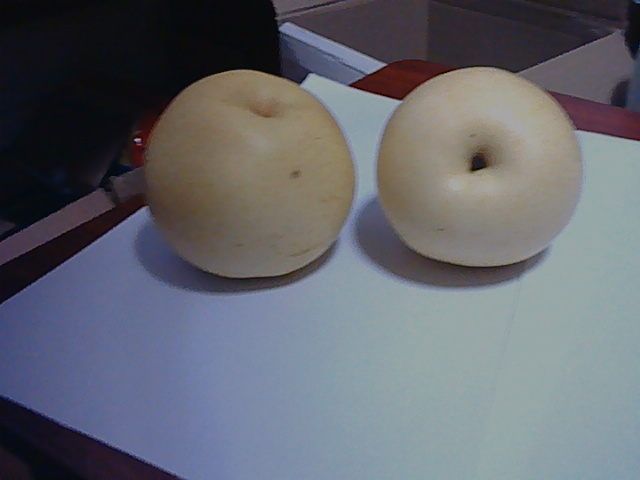pear: (369, 62, 585, 275), (145, 69, 351, 280)
